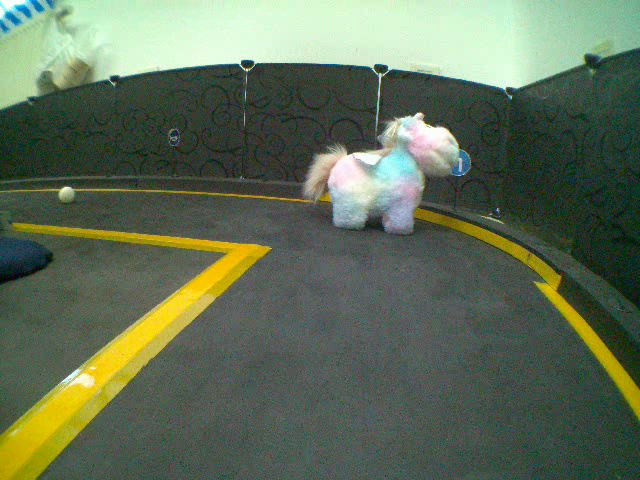unicorn: (303, 111, 461, 243)
